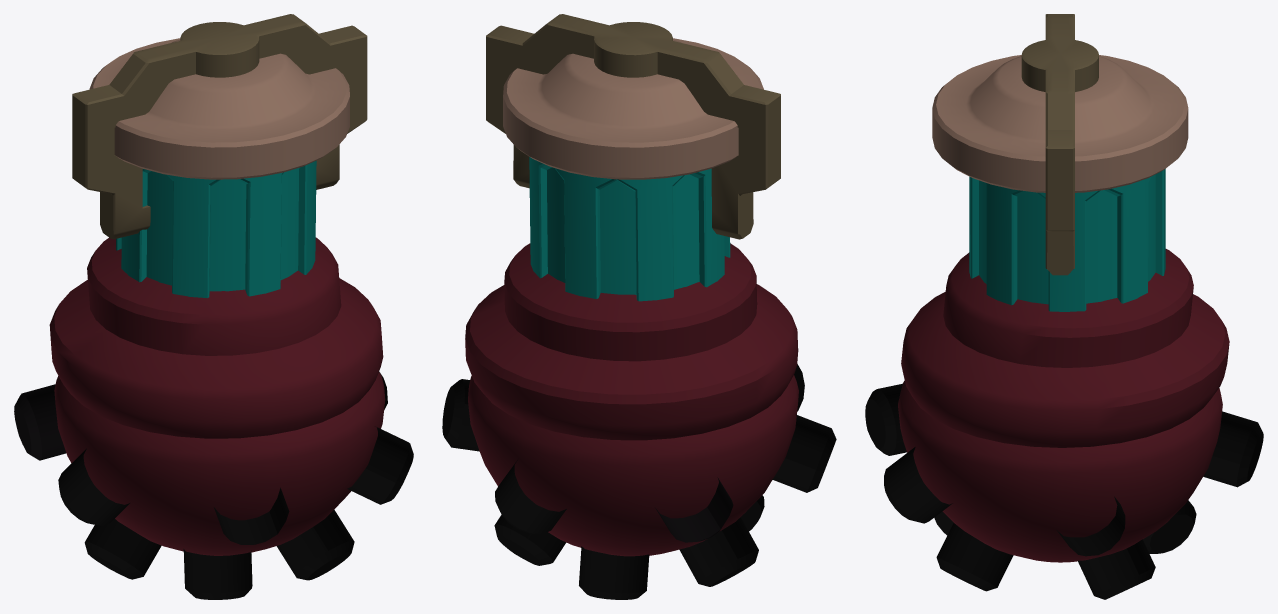
The model's file is granade2.fbx.
3 views of the same model, side by side, from view 1: azimuth 30°, elevation 25°; view 2: azimuth 150°, elevation 25°; view 3: azimuth 270°, elevation 25° (orthographic). The views are drawn at different scales.
Visible parts, largest first — view 1: Sphere, Circle.001, Cylinder, Circle, Cylinder.009, Cylinder.010, Cylinder.011, Cylinder.001, Cylinder.004, Cylinder.003, Cylinder.002; view 2: Sphere, Circle.001, Circle, Cylinder, Cylinder.011, Cylinder.012, Cylinder.003, Cylinder.005, Cylinder.004, Cylinder.013, Cylinder.014; view 3: Sphere, Circle.001, Circle, Cylinder, Cylinder.005, Cylinder.009, Cylinder.013, Cylinder.001, Cylinder.002, Cylinder.012, Cylinder.014.
Boxes of the visible parts, <box> form: Sphere: <box>49,237,385,555</box>; Circle.001: <box>89,38,349,179</box>; Cylinder: <box>72,14,367,239</box>; Circle: <box>116,160,316,298</box>; Cylinder.009: <box>276,509,354,580</box>; Cylinder.010: <box>183,549,252,599</box>; Cylinder.011: <box>84,519,161,579</box>; Cylinder.001: <box>347,426,413,504</box>; Cylinder.004: <box>14,384,66,460</box>; Cylinder.003: <box>58,448,129,525</box>; Cylinder.002: <box>214,487,289,544</box>; Sphere: <box>465,243,798,556</box>; Circle.001: <box>503,38,763,179</box>; Circle: <box>529,157,730,301</box>; Cylinder: <box>486,14,780,239</box>; Cylinder.011: <box>679,517,758,586</box>; Cylinder.012: <box>579,546,649,599</box>; Cylinder.003: <box>772,414,836,492</box>; Cylinder.005: <box>495,460,566,533</box>; Cylinder.004: <box>655,477,733,542</box>; Cylinder.013: <box>494,515,566,565</box>; Cylinder.014: <box>442,379,479,451</box>; Sphere: <box>898,249,1229,562</box>; Circle.001: <box>932,55,1188,192</box>; Circle: <box>969,169,1165,311</box>; Cylinder: <box>1021,14,1098,275</box>; Cylinder.005: <box>1203,411,1263,487</box>; Cylinder.009: <box>936,523,1013,591</box>; Cylinder.013: <box>1078,539,1155,599</box>; Cylinder.001: <box>884,447,952,523</box>; Cylinder.002: <box>865,383,906,455</box>; Cylinder.012: <box>1143,500,1196,553</box>; Cylinder.014: <box>1056,496,1125,556</box>.
Size of the model in its own units: 243 by 345 by 244.
